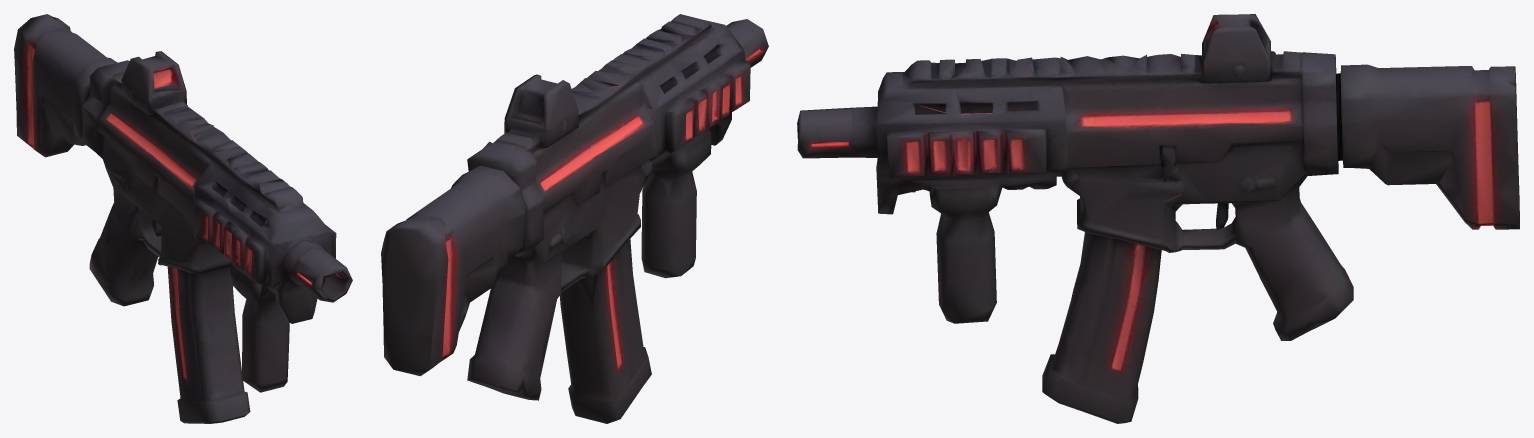
File: repeater.glb
3 views of the same model, side by side, from view 1: azimuth 30°, elevation 25°; view 2: azimuth 150°, elevation 25°; view 3: azimuth 270°, elevation 25° (orthographic). The views are drawn at different scales.
Visible parts, largest first — view 1: repeater; view 2: repeater; view 3: repeater.
Part boxes in pixels (x1,y1,x2,y2): repeater: (14, 14, 352, 423); repeater: (381, 14, 768, 423); repeater: (797, 14, 1519, 423).
Bounding box in the file's own units: 0.0992 × 0.3904 × 0.6464.
1 material, 1 textured.
